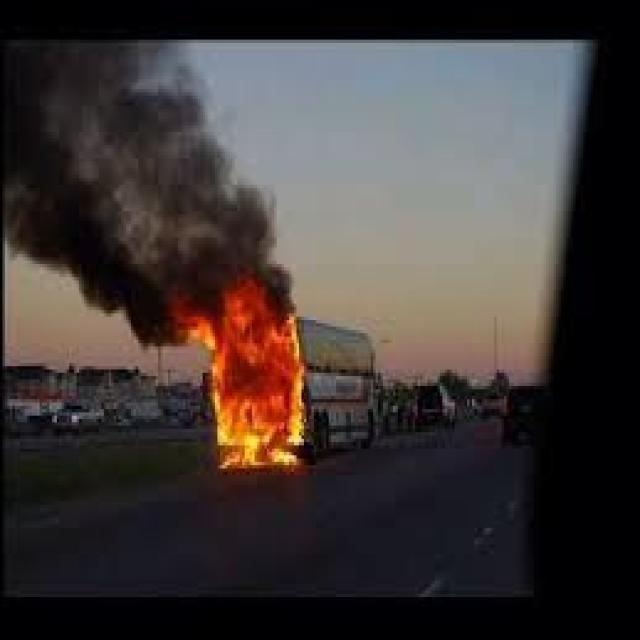Fire: (165, 280, 306, 470)
Smoke: (3, 36, 289, 278), (72, 277, 166, 348)
